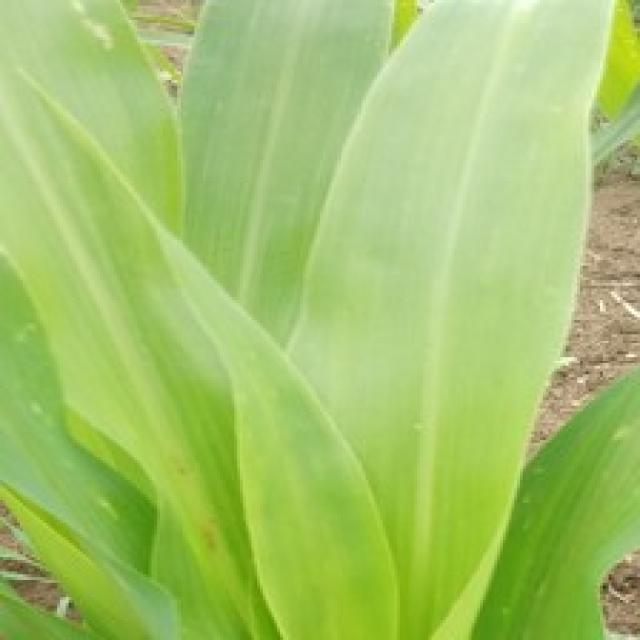Corn: (0, 0, 637, 637), (174, 0, 397, 349)
